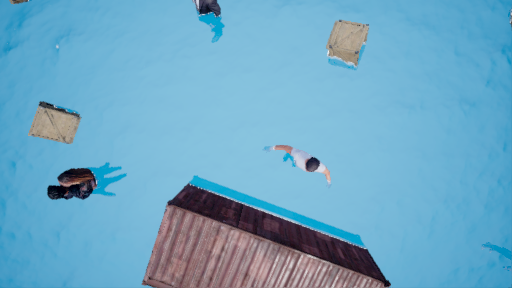person: (40, 163, 143, 209), (264, 140, 331, 194)
